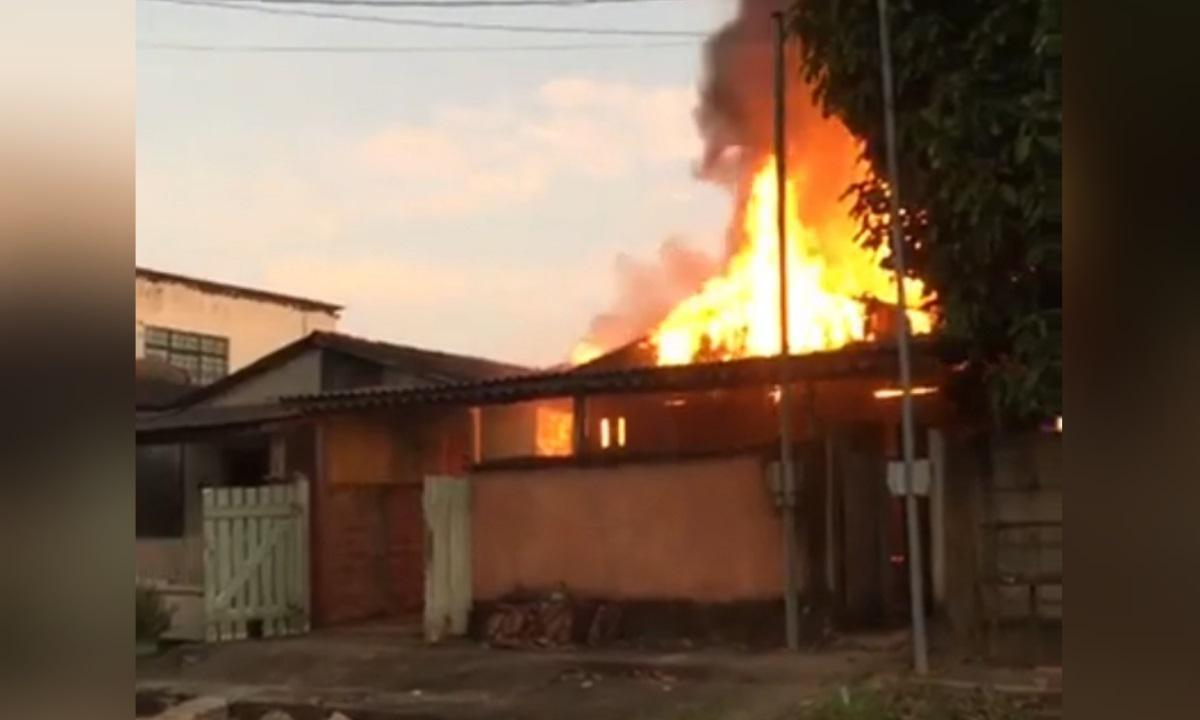Fire: (654, 143, 921, 372)
